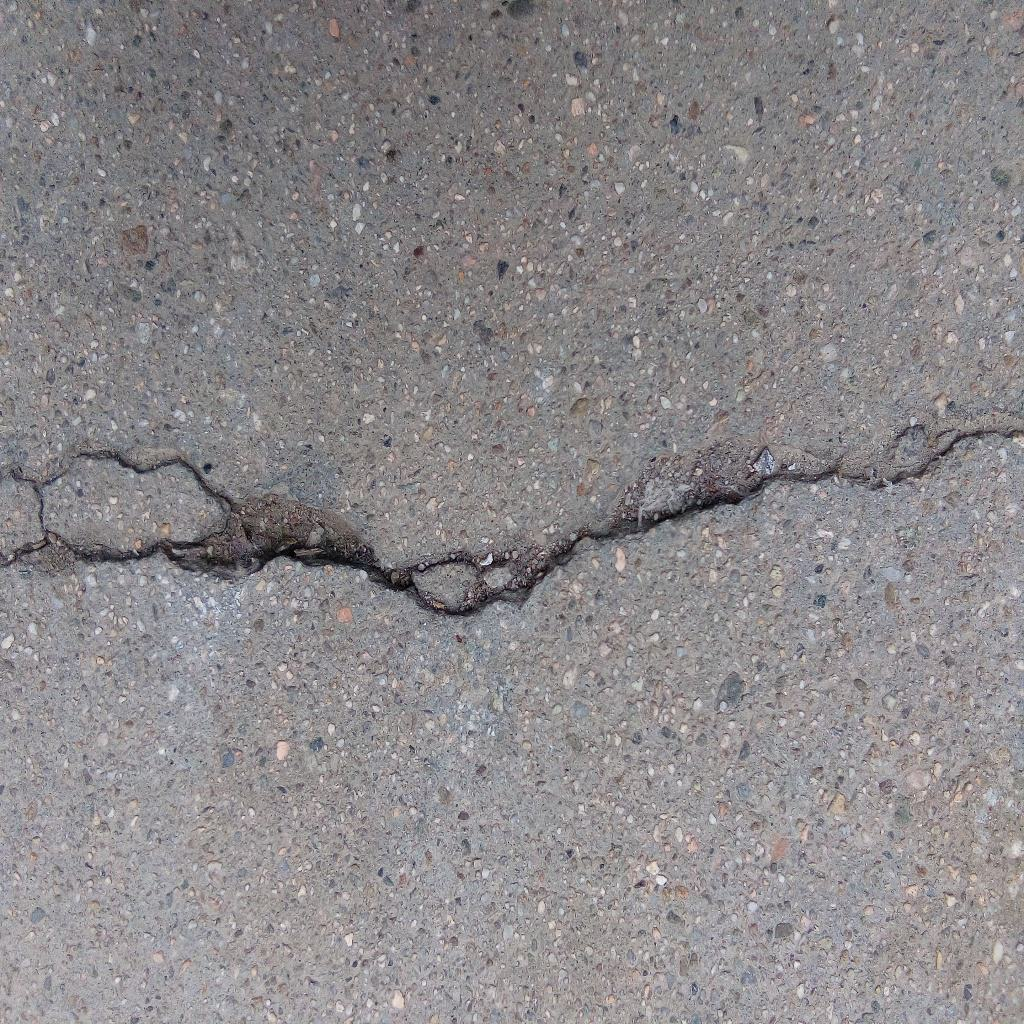Crack: (1, 425, 1024, 621)
